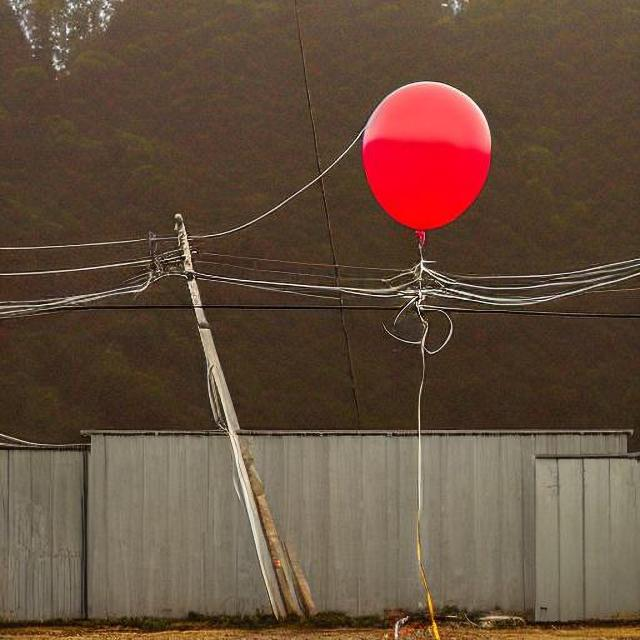balloon: (356, 81, 492, 274)
floating object: (413, 344, 434, 622)
